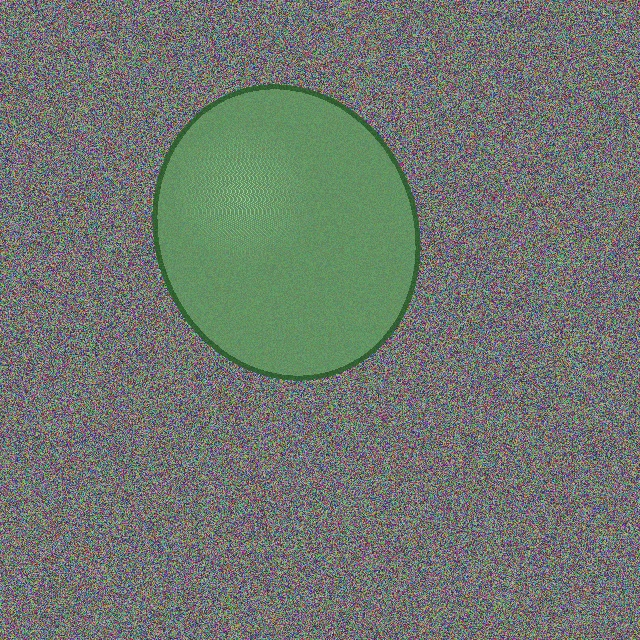lens: (155, 87, 417, 377)
